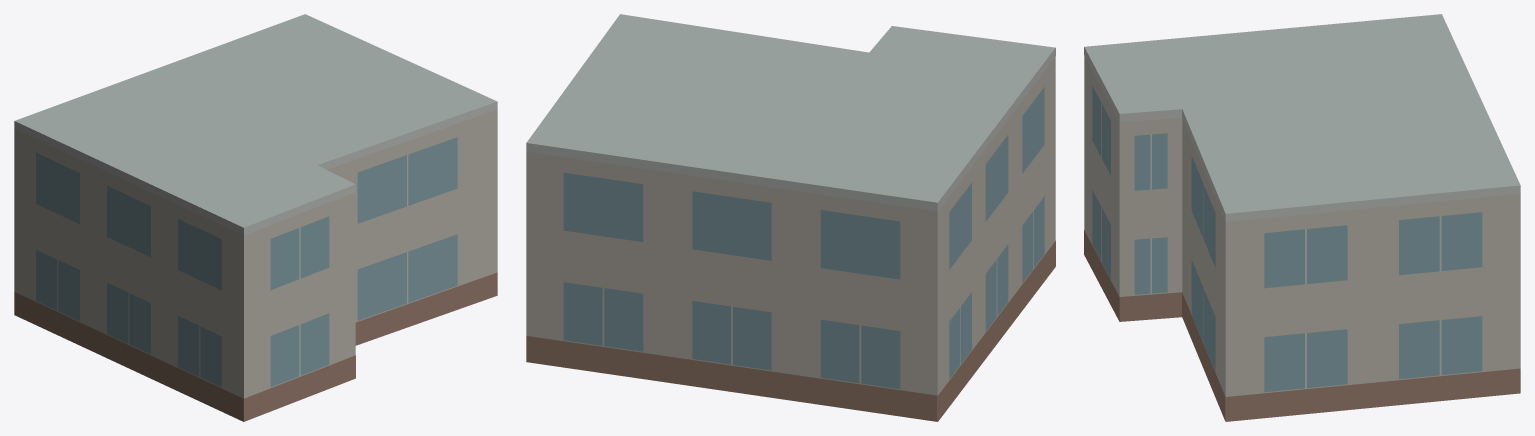
File: survey-upis-32619619.glb
3 views of the same model, side by side, from view 1: azimuth 30°, elevation 25°; view 2: azimuth 150°, elevation 25°; view 3: azimuth 270°, elevation 25° (orthographic). The views are drawn at different scales.
Visible parts, largest first — view 1: survey-upis-32619619.tmp; view 2: survey-upis-32619619.tmp; view 3: survey-upis-32619619.tmp.
Boxes of the visible parts, x1,y1,x2,y2 form: survey-upis-32619619.tmp: (14,14,497,421); survey-upis-32619619.tmp: (526,14,1055,421); survey-upis-32619619.tmp: (1084,14,1520,421).
Bounding box in the file's own units: 12.59 × 6.1 × 11.62.
